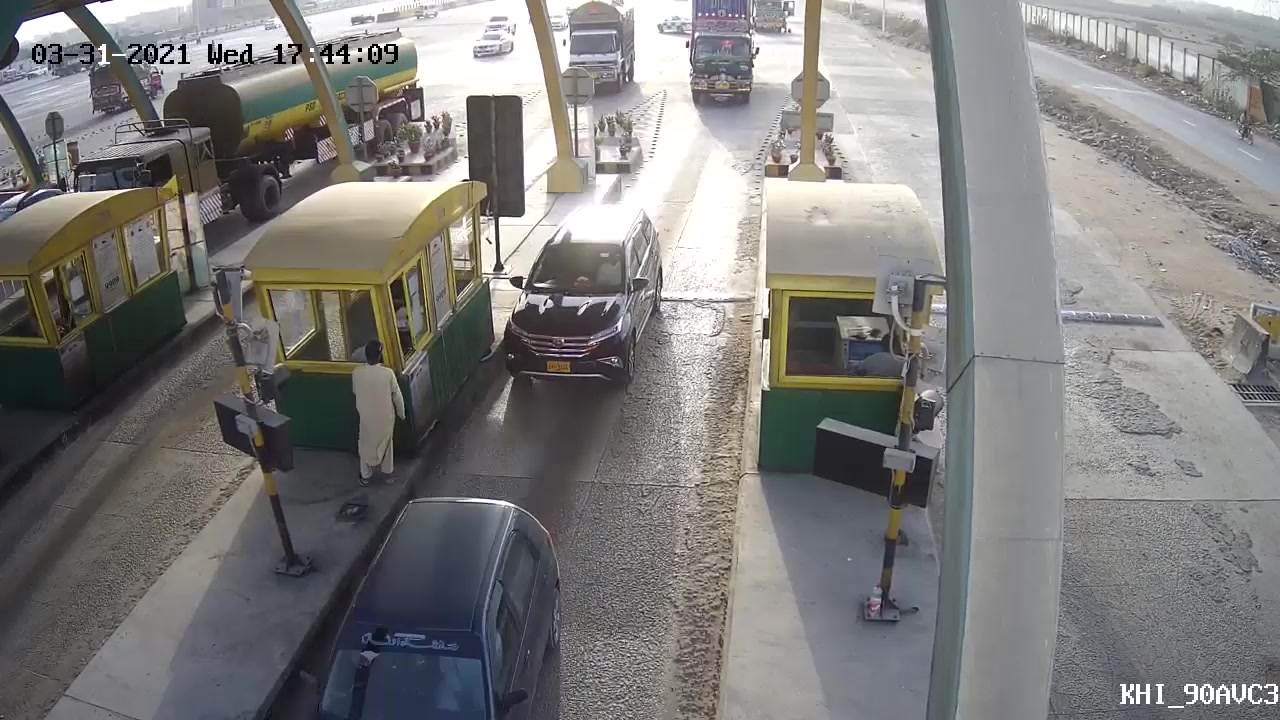F1: (490, 199, 672, 409)
